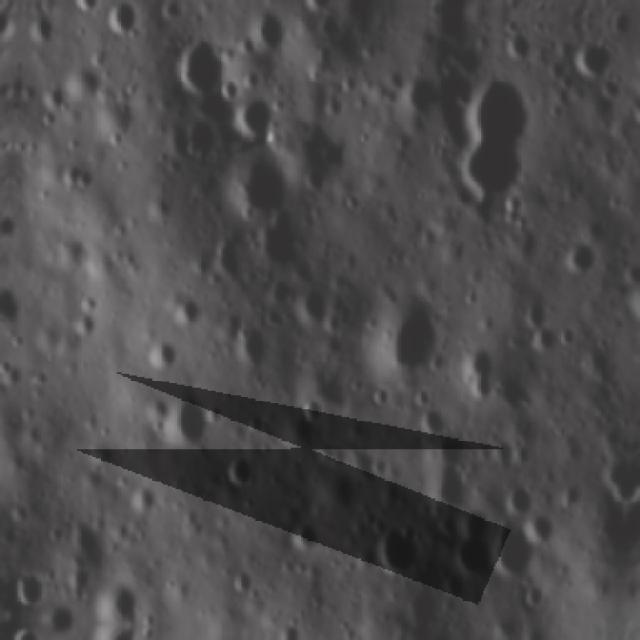crater: (446, 49, 539, 217), (365, 284, 453, 396), (224, 144, 302, 225), (155, 387, 227, 462), (366, 520, 436, 594), (247, 211, 316, 283), (572, 21, 632, 98), (164, 30, 230, 99), (136, 322, 190, 378), (95, 574, 151, 628), (560, 229, 606, 289), (231, 88, 277, 146), (3, 562, 51, 616), (63, 60, 114, 109), (164, 282, 213, 329), (408, 395, 454, 443), (250, 5, 292, 57), (220, 443, 262, 495), (283, 516, 329, 561), (501, 480, 544, 522), (290, 392, 332, 432), (103, 0, 147, 38), (225, 561, 260, 602), (40, 601, 82, 622), (66, 0, 105, 17), (188, 623, 224, 634)
